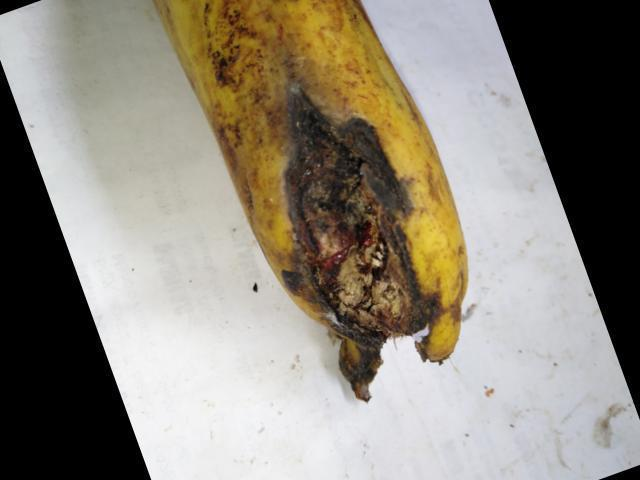rotten: (238, 78, 479, 396)
